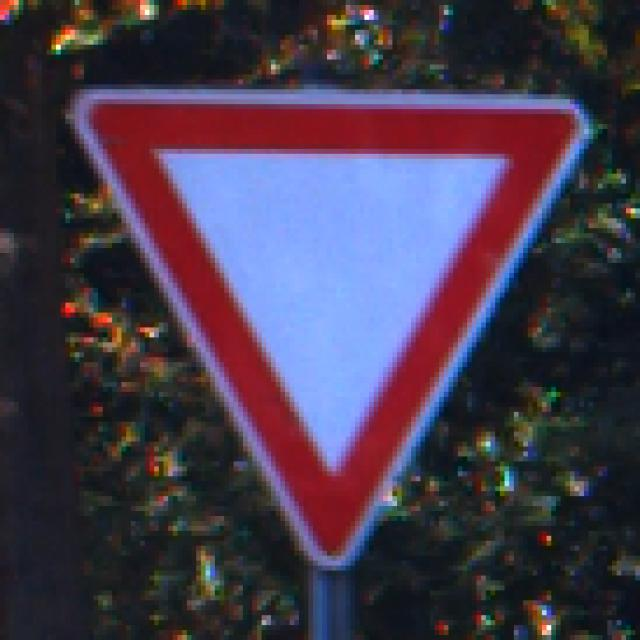Give Way: (57, 56, 590, 587)
